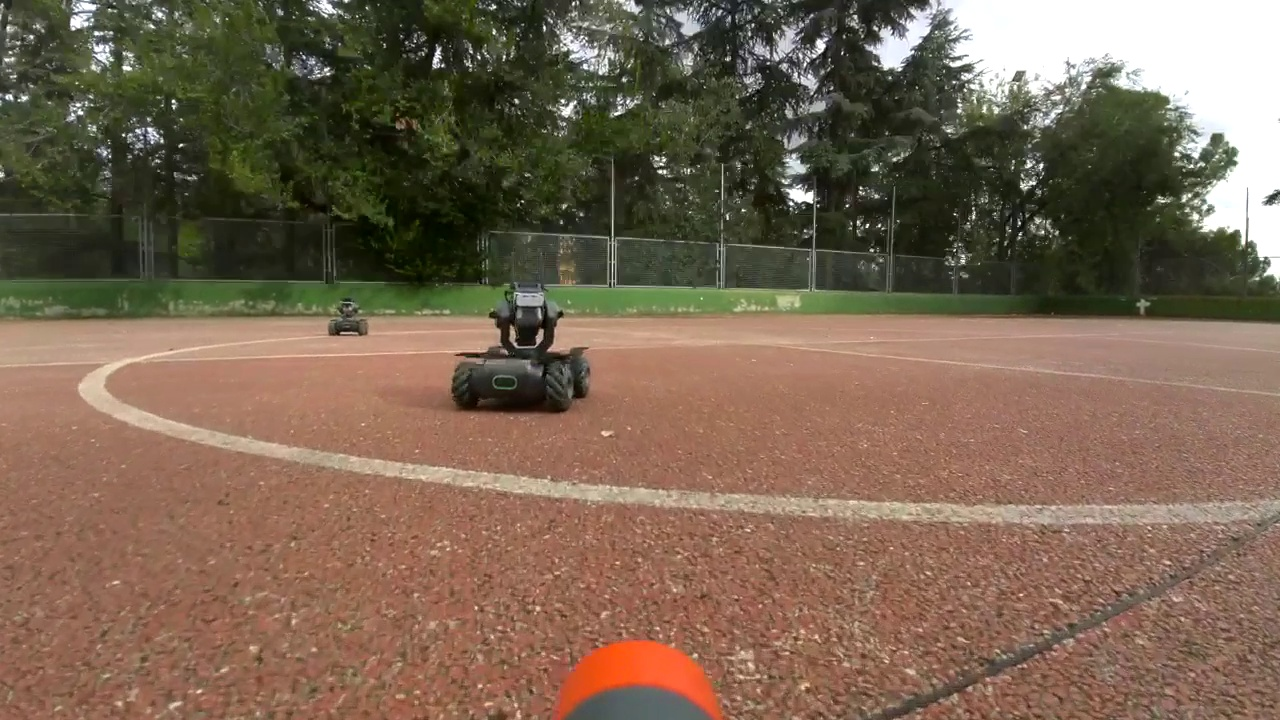robot: (455, 285, 588, 407), (327, 297, 364, 336)
